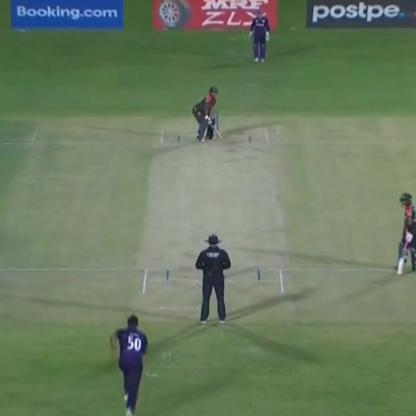bat: (397, 223, 412, 285), (196, 105, 225, 135)
pitch: (135, 127, 290, 319)
